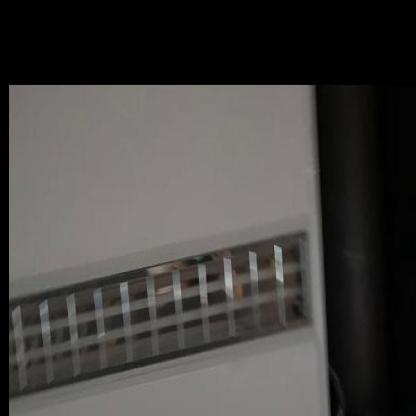light_off: (11, 210, 322, 414)
